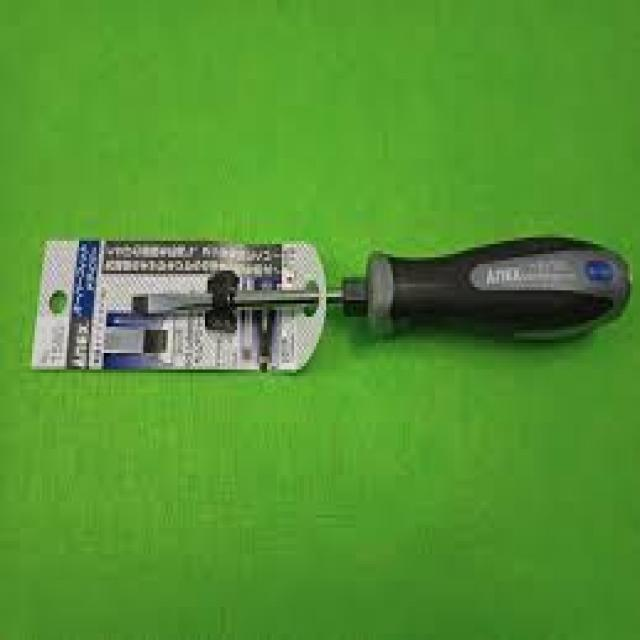screwdriver: (126, 236, 635, 341)
